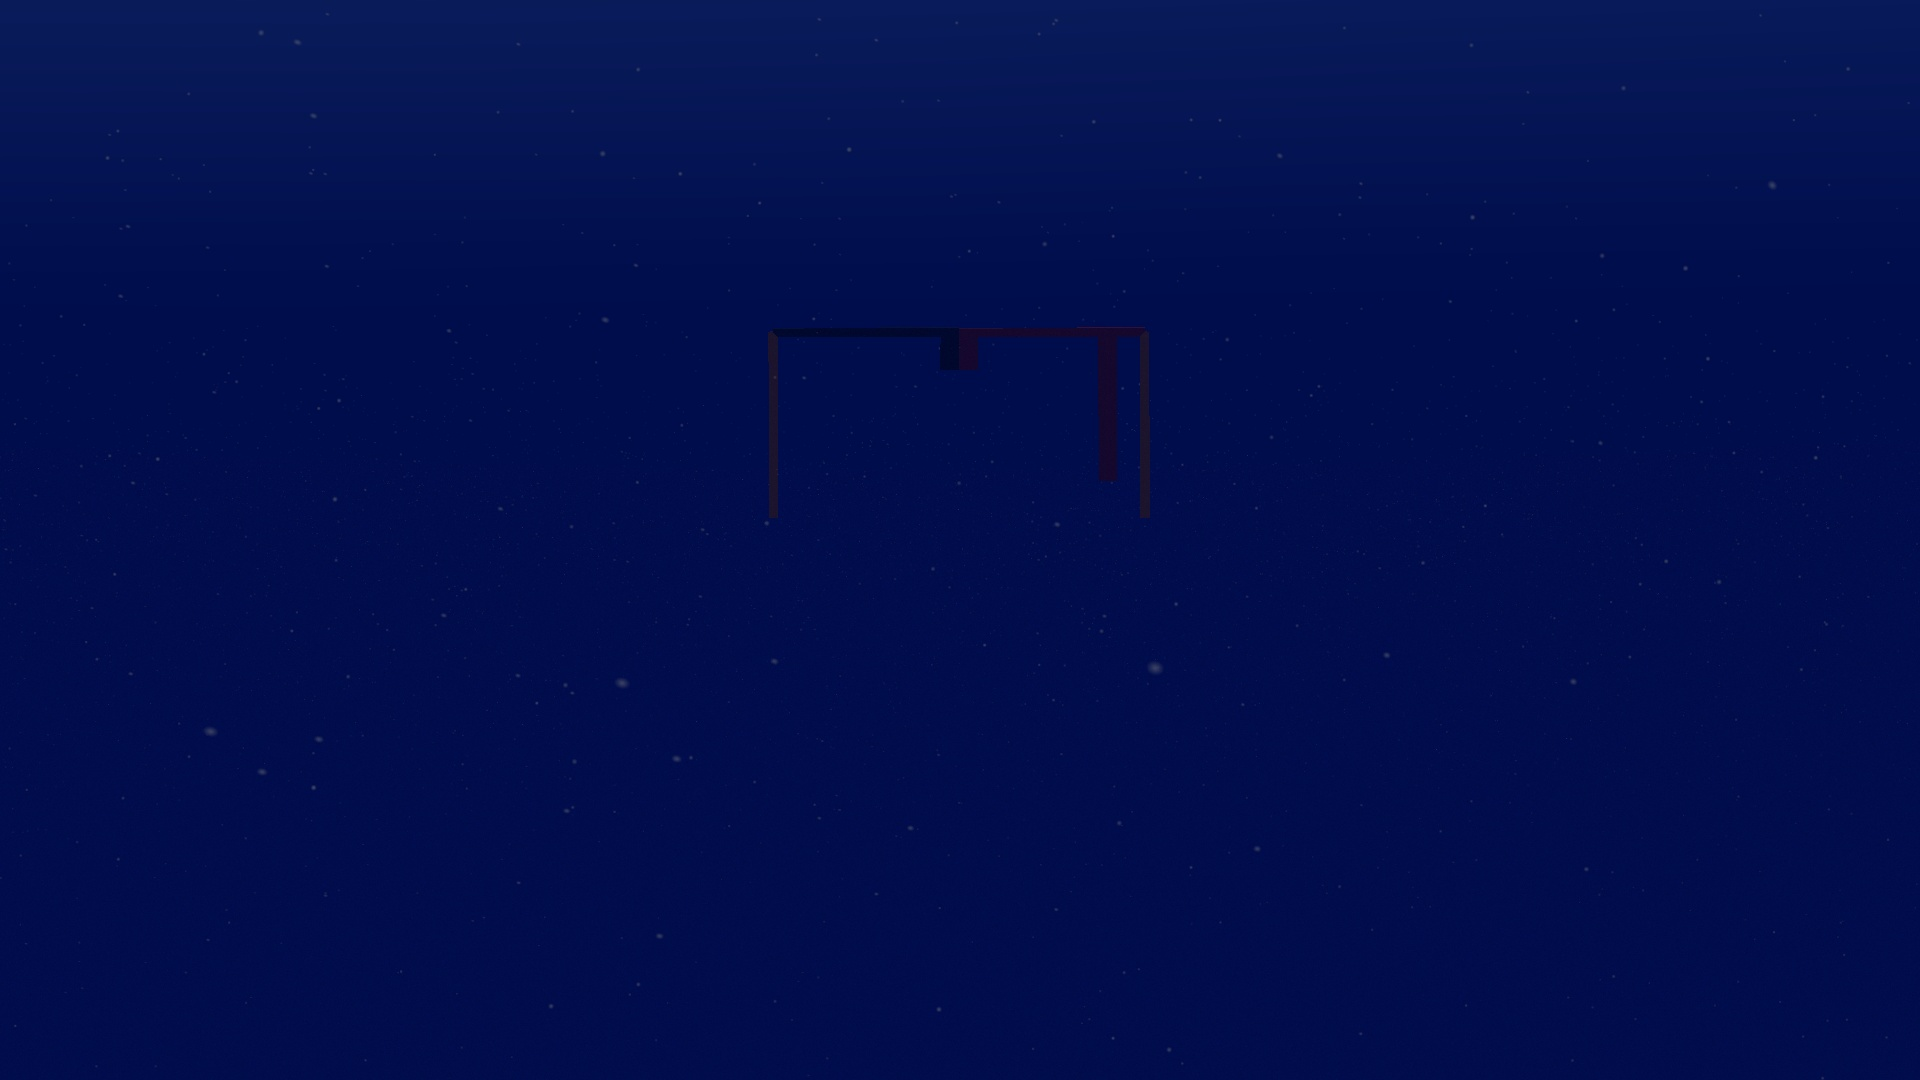Gate: (760, 322, 1154, 527)
